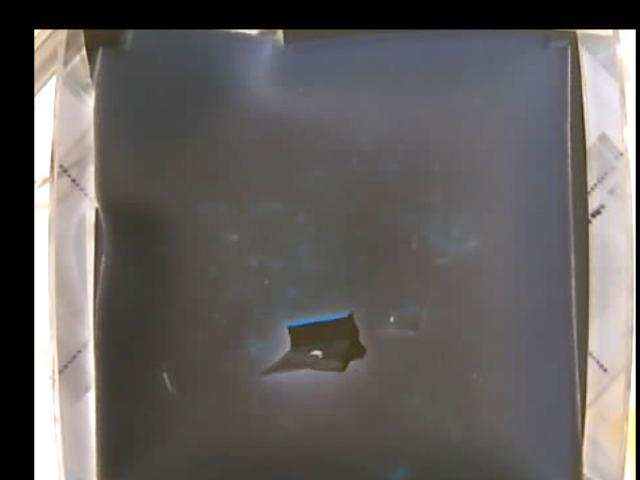China: (257, 315, 373, 379)
